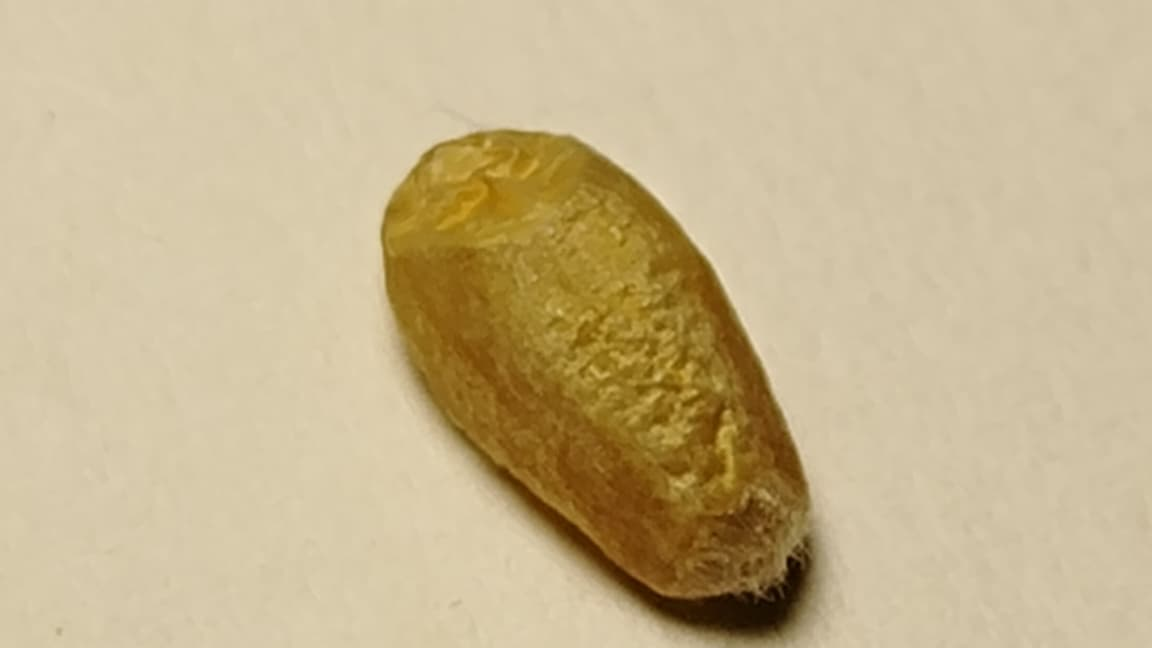healthy: (383, 131, 808, 597)
